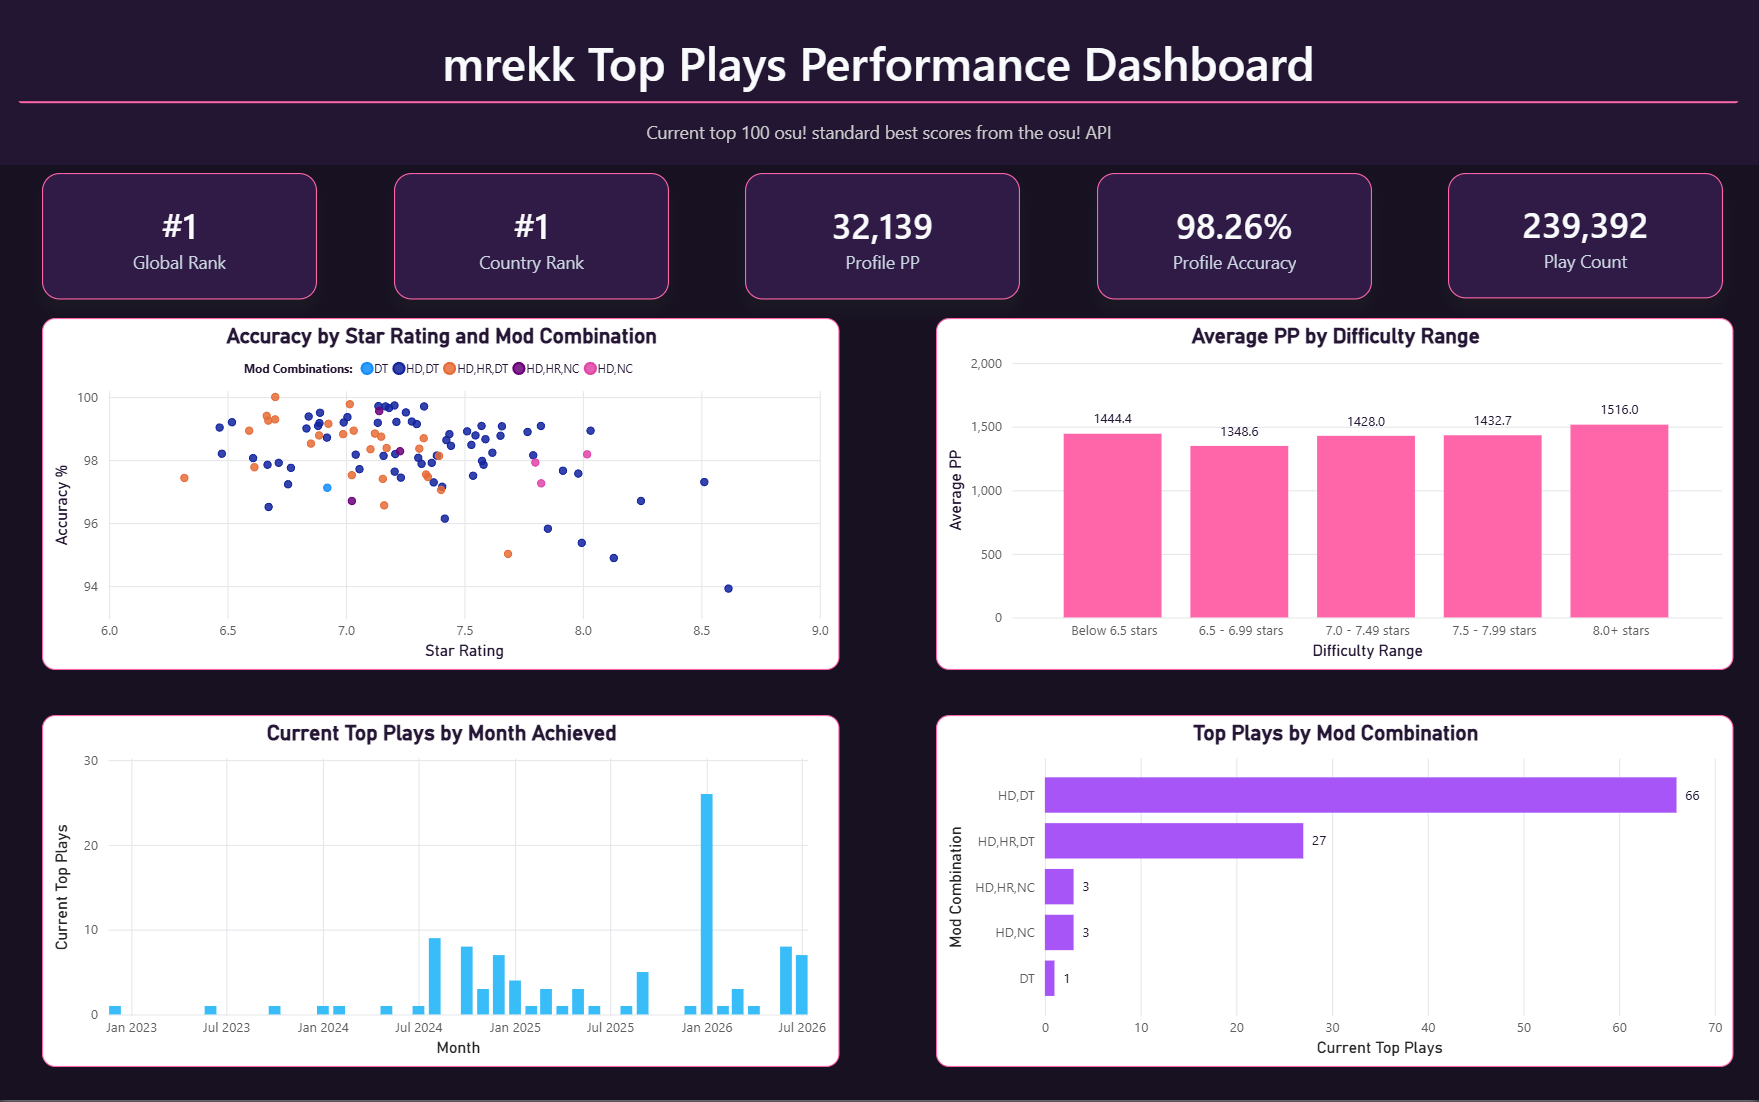

What the dashboard file says about the page in this screenshot:
{"tool":"powerbi","page":{"name":"mrekk Top Plays Overview","canvas":[1600,1000],"ordinal":0},"visuals":[{"type":"shape","box":[0,0,1599.8,150.2],"z":0},{"type":"cardVisual","fields":{"Data":["public vw_profile_snapshot_latest.Dashboard Title"]},"box":[0,0,1599.8,111.8],"z":1000},{"type":"textbox","box":[0,104.1,1599.8,38.4],"z":2000},{"type":"cardVisual","fields":{"Data":["public vw_profile_snapshot_latest.Global Rank"]},"box":[39.2,157.5,250,115],"z":3000},{"type":"cardVisual","fields":{"Data":["public vw_profile_snapshot_latest.Country Rank"]},"box":[358.8,157.5,250,115],"z":4000},{"type":"cardVisual","fields":{"Data":["public vw_profile_snapshot_latest.Profile PP"]},"box":[678.3,157.5,250,115.2],"z":5000},{"type":"cardVisual","fields":{"Data":["public vw_profile_snapshot_latest.Profile Accuracy"]},"box":[997.9,157.5,250,115.2],"z":6000},{"type":"cardVisual","fields":{"Data":["public vw_profile_snapshot_latest.Play Count"]},"box":[1317.4,157.5,250,114.3],"z":7000},{"type":"scatterChart","title":"Accuracy by Star Rating and Mod Combination","fields":{"X":["public vw_best_scores_dashboard.beatmap_star_rating"],"Y":["public vw_best_scores_dashboard.accuracy_percent"],"Series":["public vw_best_scores_dashboard.mods_clean"]},"box":[39.4,289.4,725,320],"z":8000},{"type":"clusteredColumnChart","title":"Average PP by Difficulty Range","fields":{"Y":["Sum(public vw_star_rating_summary.avg_pp)"],"Category":["public vw_star_rating_summary.star_rating_bucket"]},"box":[852.1,289.4,725,320.2],"z":9000},{"type":"clusteredColumnChart","title":"Current Top Plays by Month Achieved","fields":{"Category":["public vw_monthly_score_summary.score_month"],"Y":["Sum(public vw_monthly_score_summary.top_score_count)"]},"box":[39.4,650,725,320.2],"z":10000},{"type":"clusteredBarChart","title":"Top Plays by Mod Combination","fields":{"Category":["public vw_mod_summary.mods_clean"],"Y":["Sum(public vw_mod_summary.score_count)"]},"box":[852.1,650,725,320.2],"z":10001}]}

Visuals, with their boxes in screenshot pixels (x1, y1, x2, y2), scaled from the page's 1600x1000 canvas onto the 1759x1102 screenshot:
shape: <bbox>0, 0, 1758, 166</bbox>
cardVisual - public vw_profile_snapshot_latest.Dashboard Title: <bbox>0, 0, 1758, 123</bbox>
textbox: <bbox>0, 115, 1758, 157</bbox>
cardVisual - public vw_profile_snapshot_latest.Global Rank: <bbox>43, 174, 318, 300</bbox>
cardVisual - public vw_profile_snapshot_latest.Country Rank: <bbox>394, 174, 669, 300</bbox>
cardVisual - public vw_profile_snapshot_latest.Profile PP: <bbox>746, 174, 1021, 301</bbox>
cardVisual - public vw_profile_snapshot_latest.Profile Accuracy: <bbox>1097, 174, 1372, 301</bbox>
cardVisual - public vw_profile_snapshot_latest.Play Count: <bbox>1448, 174, 1723, 300</bbox>
"Accuracy by Star Rating and Mod Combination" scatterChart: <bbox>43, 319, 840, 672</bbox>
"Average PP by Difficulty Range" clusteredColumnChart: <bbox>937, 319, 1734, 672</bbox>
"Current Top Plays by Month Achieved" clusteredColumnChart: <bbox>43, 716, 840, 1069</bbox>
"Top Plays by Mod Combination" clusteredBarChart: <bbox>937, 716, 1734, 1069</bbox>
